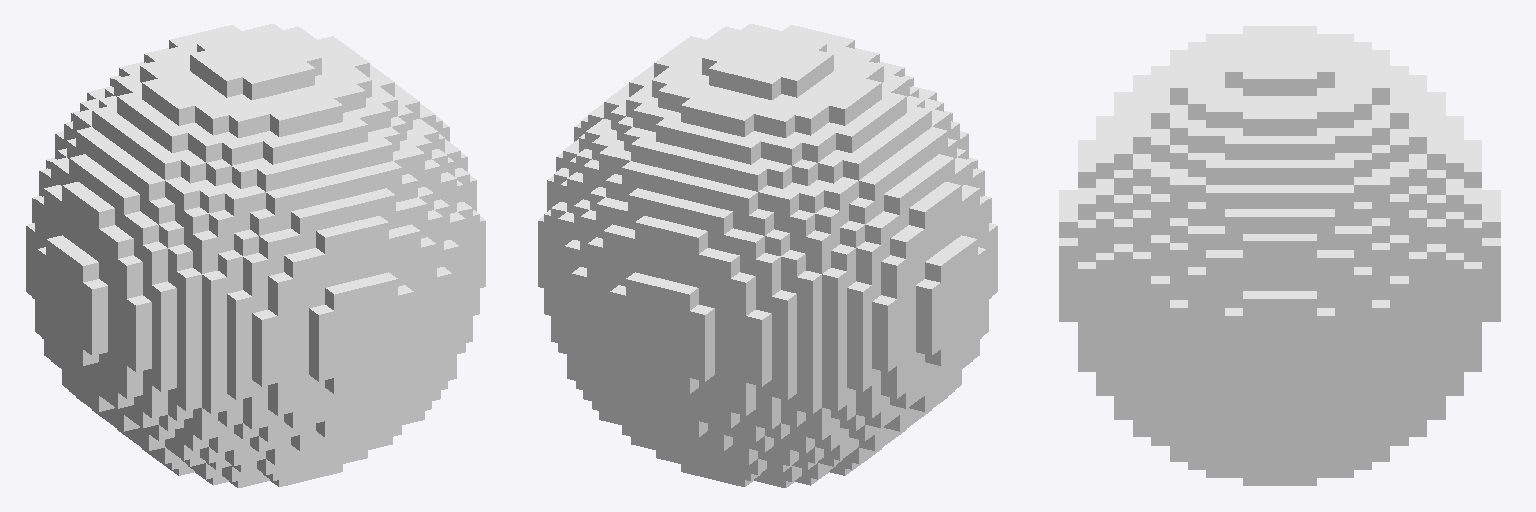
File: mod4.obj
3 renders of one model, left to right at view 1: azimuth 30°, elevation 25°; view 2: azimuth 150°, elevation 25°; view 3: azimuth 270°, elevation 25°, orthographic.
Visible parts, largest first — view 1: object 1; view 2: object 1; view 3: object 1.
Part boxes in pixels (bbox=[...]): object 1: bbox=[26, 24, 485, 487]; object 1: bbox=[538, 24, 997, 487]; object 1: bbox=[1059, 26, 1500, 485].
Size of the model in its own units: 2.4 by 2.4 by 2.4.